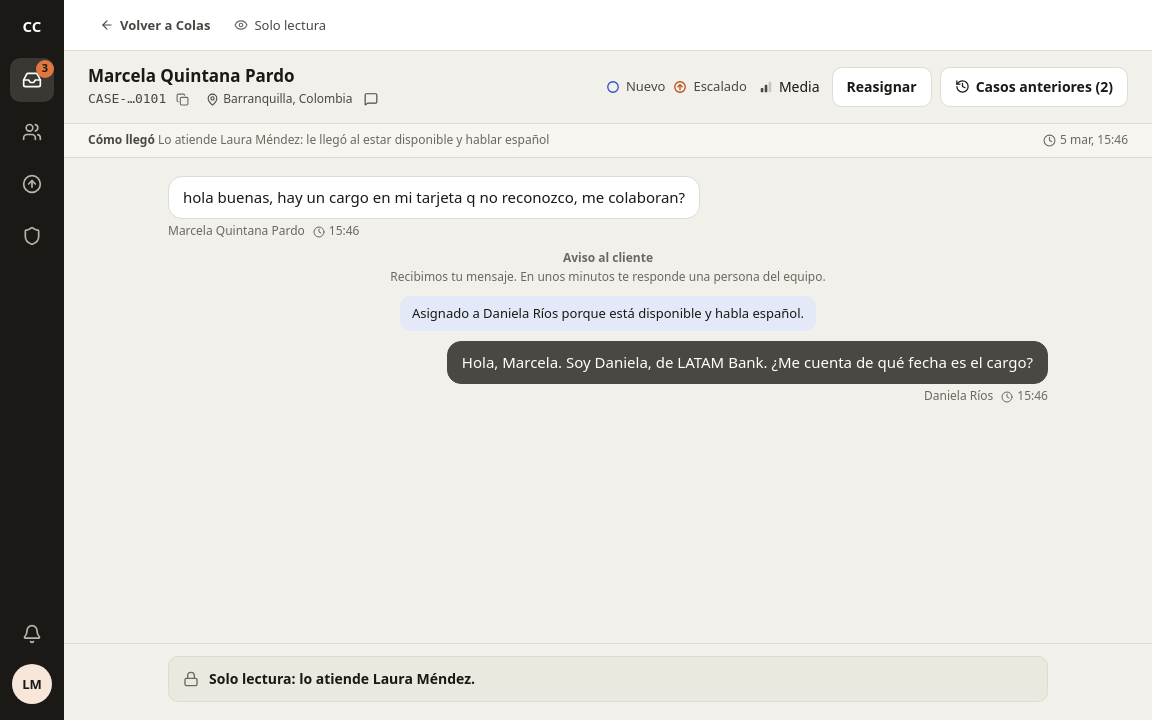
Scenario: supervisor case view › shows the "Escalado" marker and reassigns, ending the escalation
Expected: the text "Escalado" is shown, [693,78,747,96]
Click the button "Reasignar" at (882, 87), box [832,67,932,107]
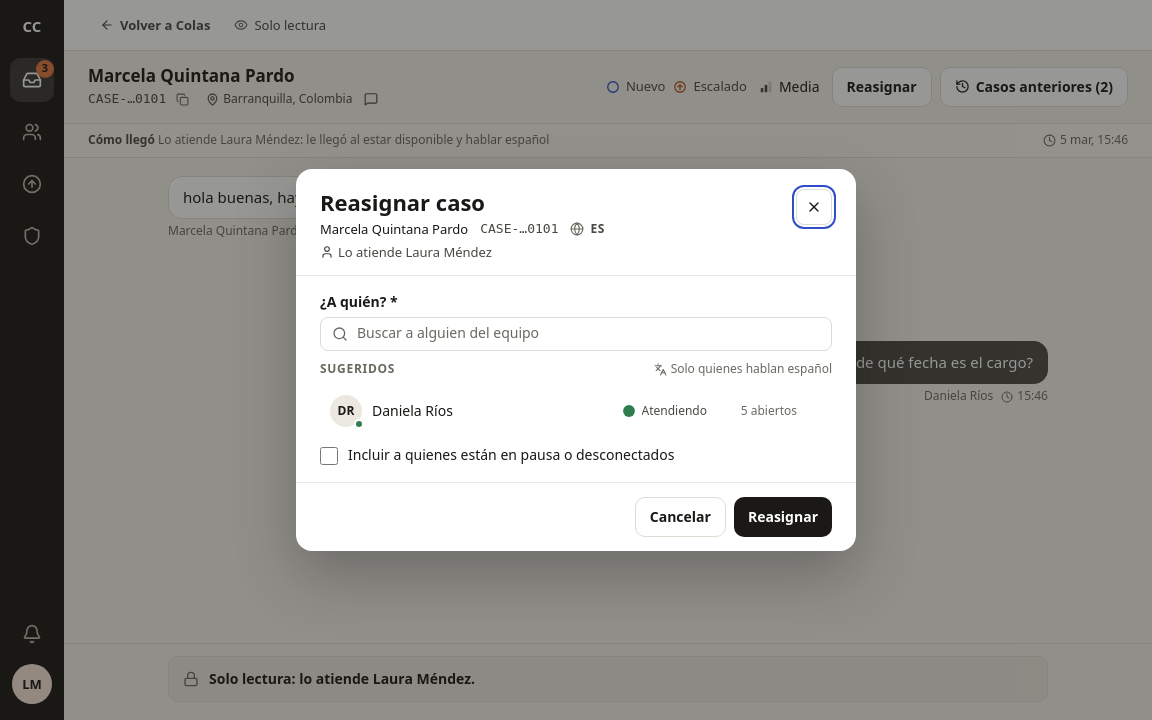
Click the radio button labelled "DR Daniela Ríos Atendiendo 5 abiertos" at (346, 411), box [320,387,832,435]
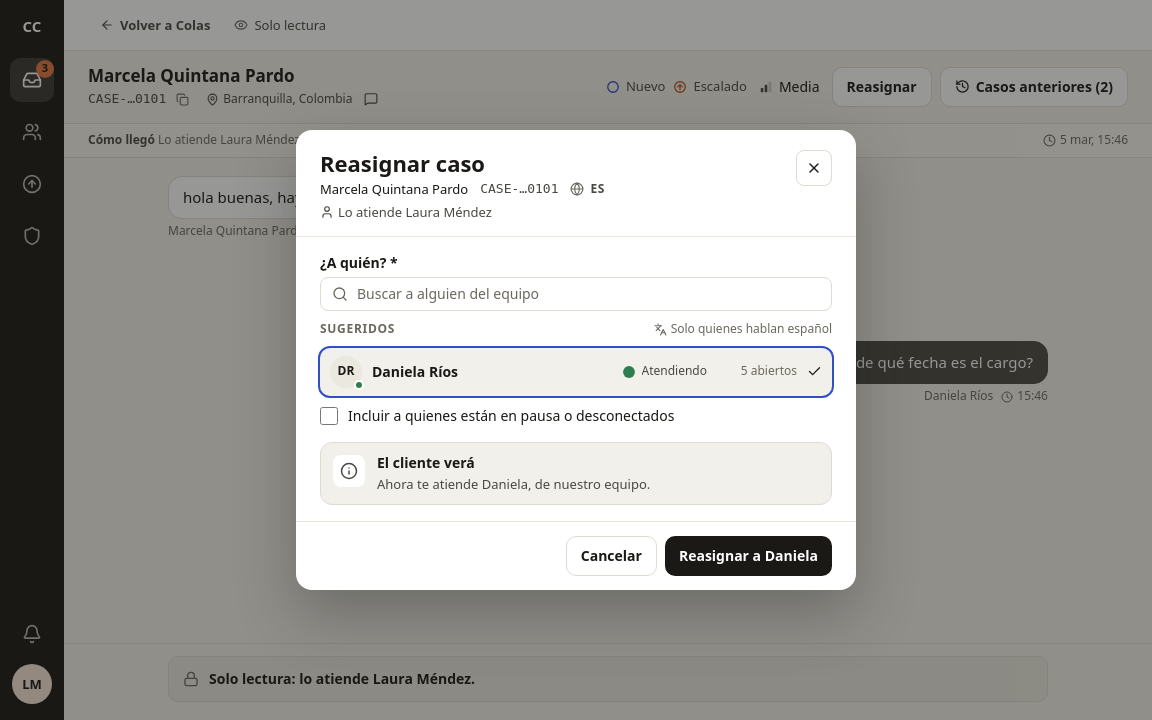
Click the button "Reasignar a Daniela" at (748, 556), box [665,536,832,576]
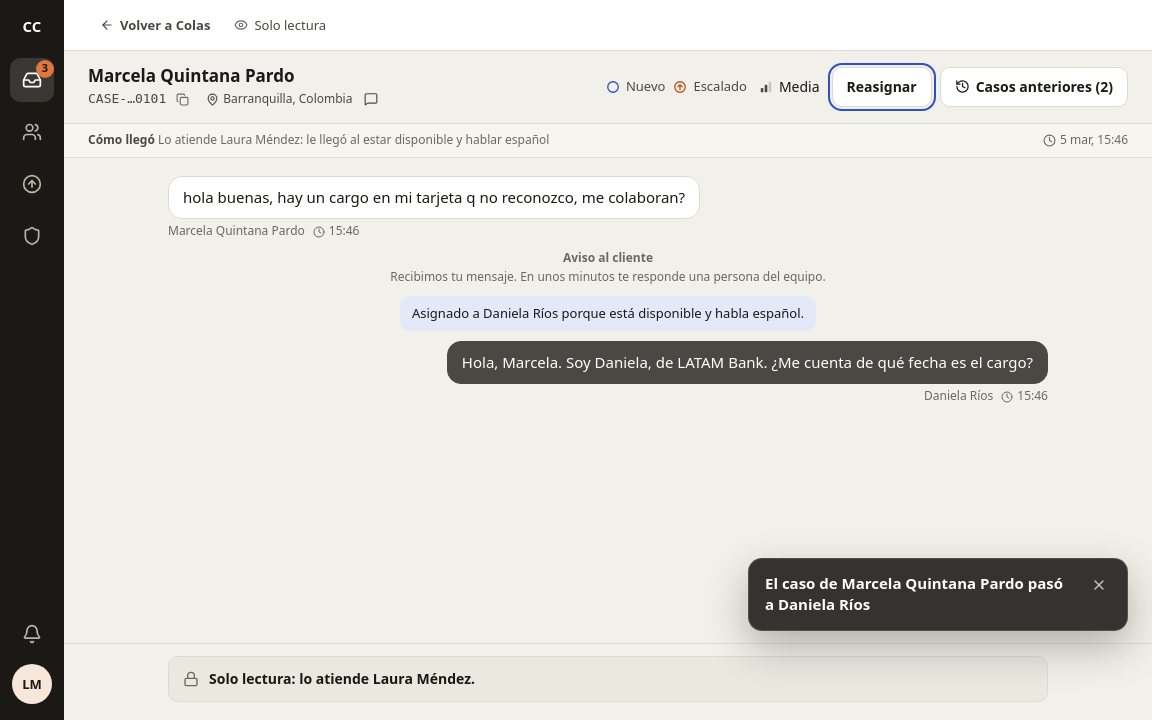
Result: the text "El caso de Marcela Quintana Pardo pasó a Daniela Ríos" is shown at [765,572,1071,616]
